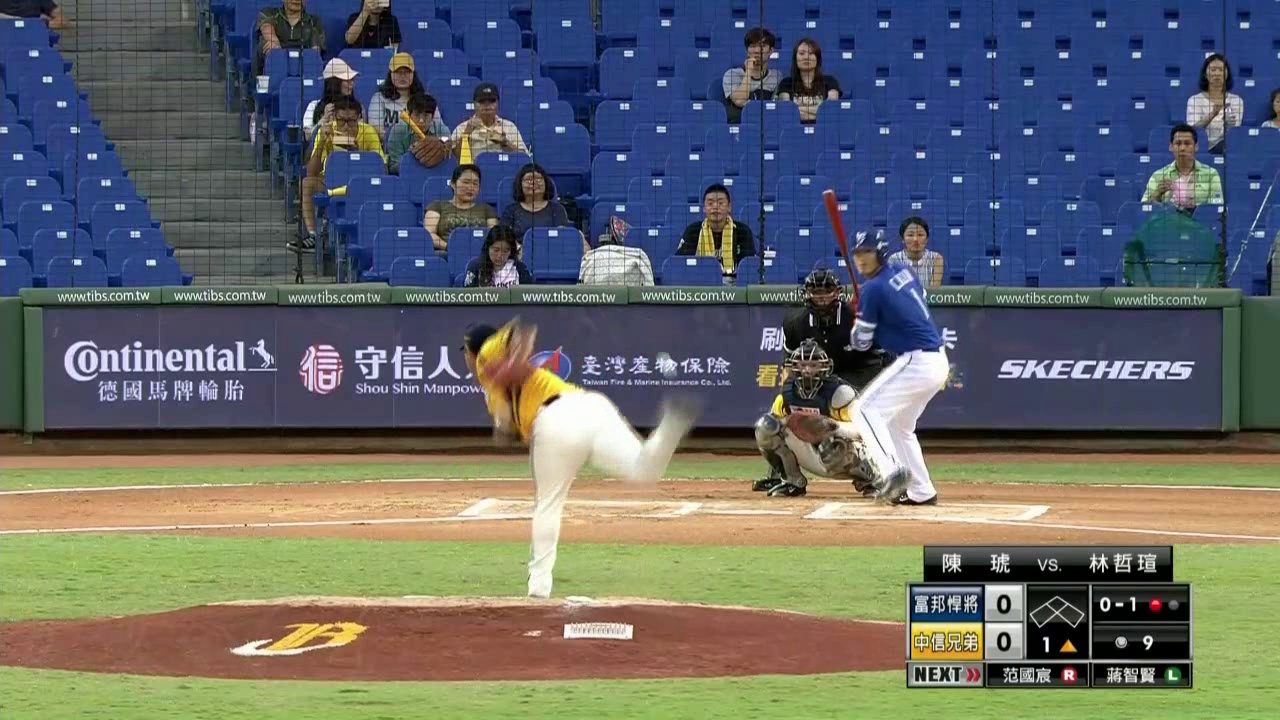ball: (661, 358, 674, 373)
base: (1025, 589, 1091, 630)
bat: (823, 190, 861, 309)
out: (1144, 593, 1182, 615)
score1: (987, 590, 1019, 620)
score2: (984, 626, 1018, 657)
session: (1029, 632, 1090, 658)
strikeball: (1090, 588, 1144, 620)
total: (1108, 625, 1154, 654)
